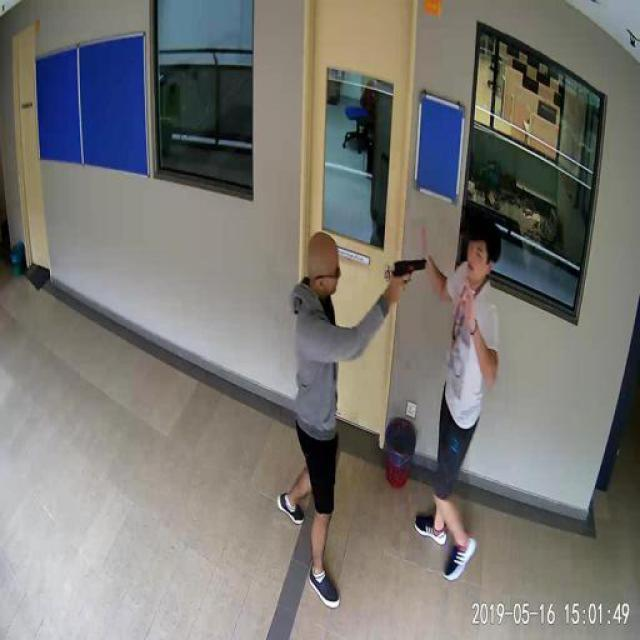weapon: (392, 257, 428, 285)
